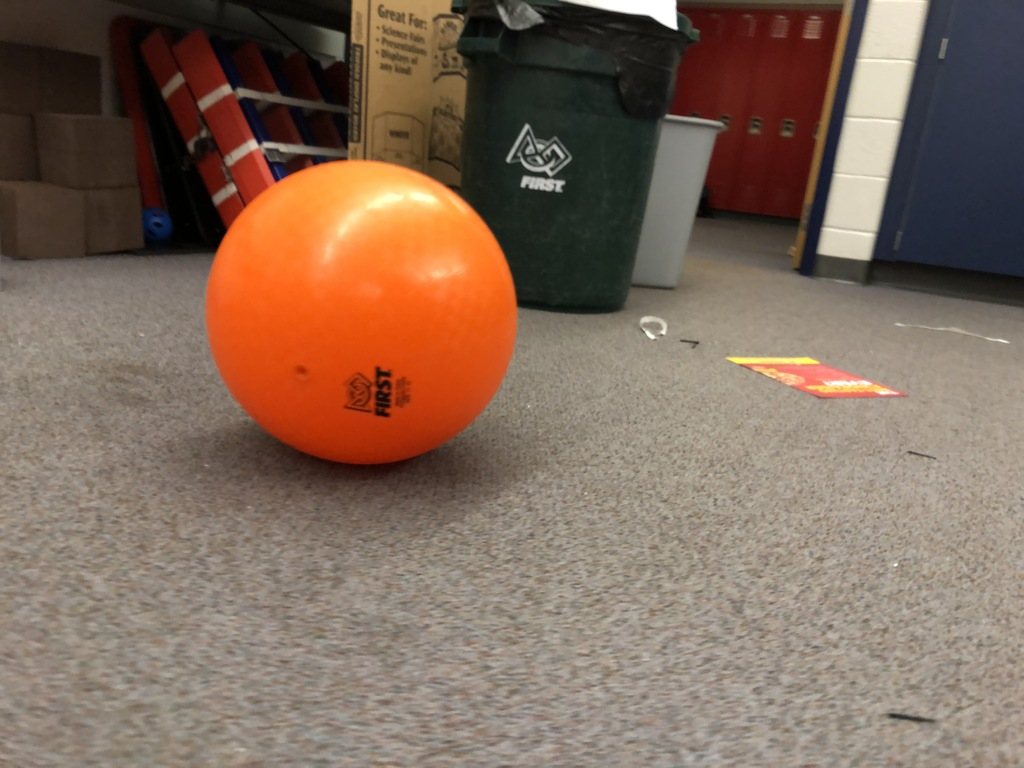cargo: (189, 154, 518, 480)
